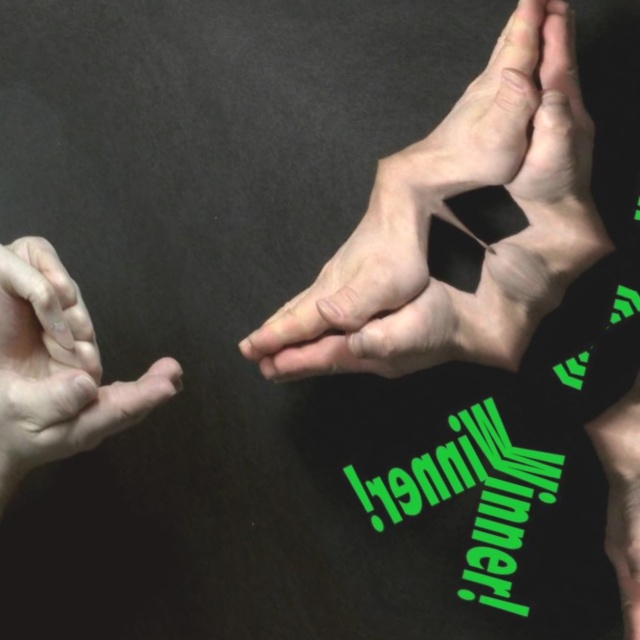Paper: (160, 117, 476, 438)
Rock: (0, 187, 164, 448)
